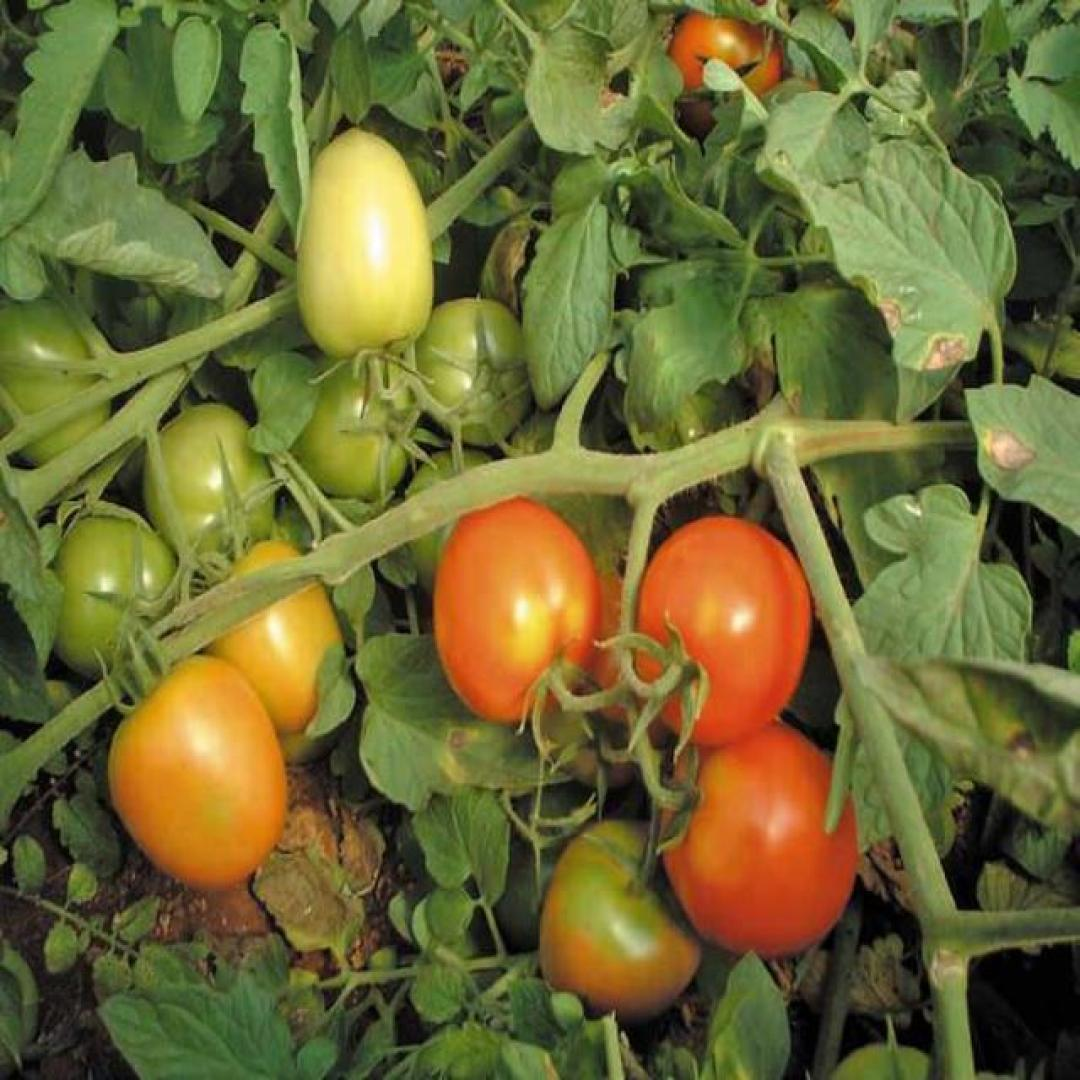matang: (653, 716, 859, 959), (628, 508, 813, 753), (431, 481, 602, 729)
mentah: (292, 122, 435, 366)
setengah_matang: (107, 648, 288, 894), (535, 812, 704, 1034), (201, 536, 348, 733)
